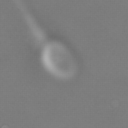normal: (13, 1, 49, 42)
